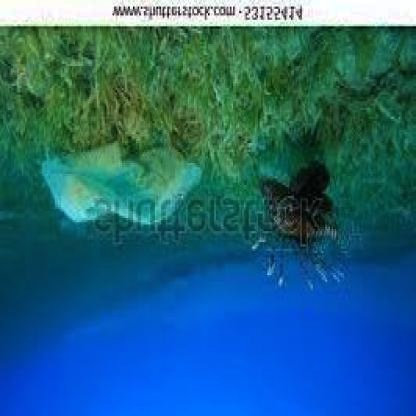pbag: (41, 143, 202, 225)
